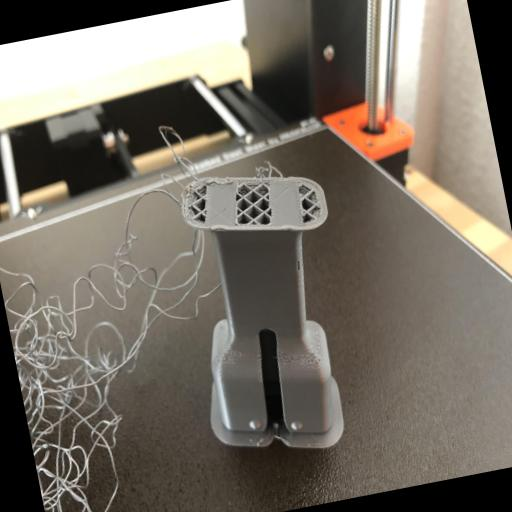spaghetti: (0, 214, 211, 512), (159, 124, 225, 242)
